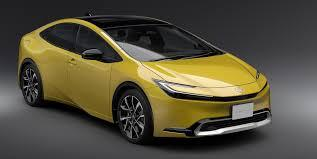toyota: (231, 86, 245, 95)
